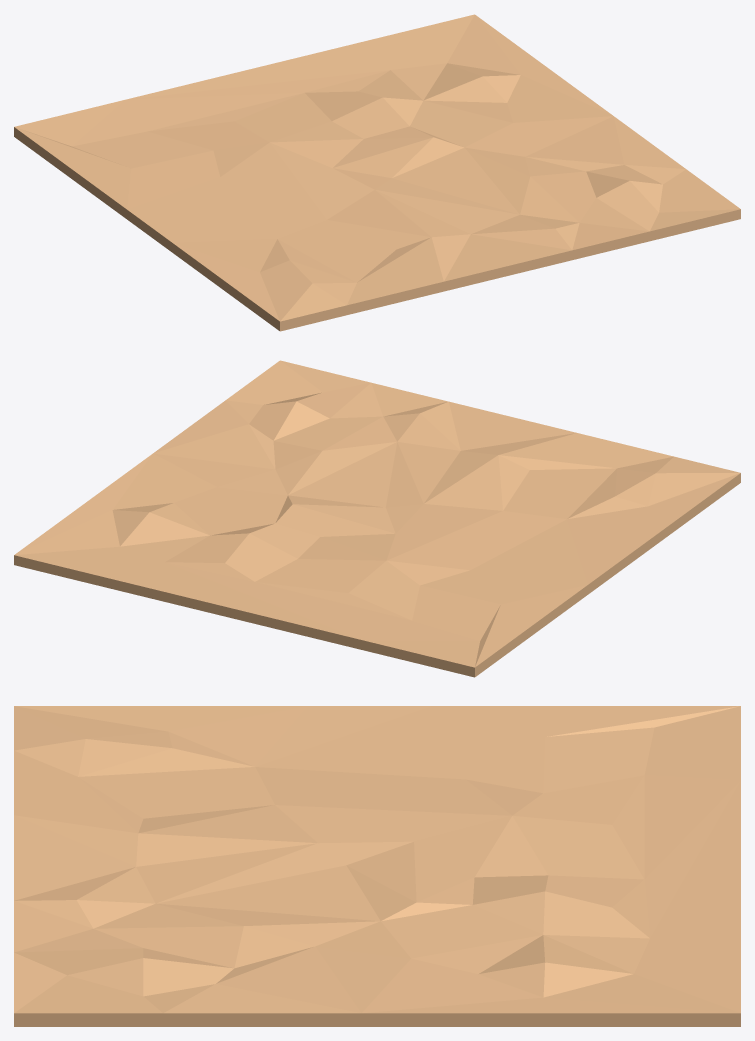
File: Sand.fbx
The picture shows the model from 3 angles, top to bottom: view 1: azimuth 30°, elevation 25°; view 2: azimuth 150°, elevation 25°; view 3: azimuth 270°, elevation 25°; orthographic projection. The views are drawn at different scales.
Visible parts, largest first — view 1: Sand; view 2: Sand; view 3: Sand.
Part boxes in pixels (x1,y1,x2,y2): Sand: [14, 14, 740, 331]; Sand: [14, 360, 740, 677]; Sand: [14, 706, 740, 1026].
Bounding box in the file's own units: 500 × 19.96 × 500.
